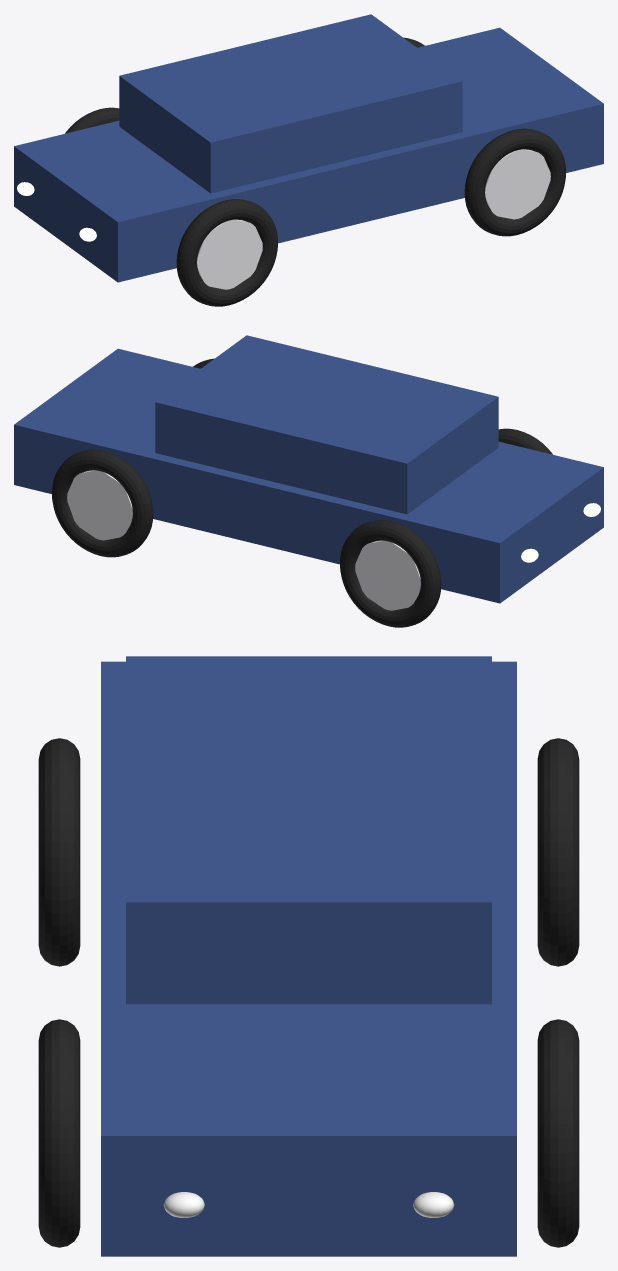
3 renders of one model, top to bottom at view 1: azimuth 30°, elevation 25°; view 2: azimuth 150°, elevation 25°; view 3: azimuth 270°, elevation 25°, orthographic. The views are drawn at different scales.
Parts seen in each view (by area): view 1: SportsCar; view 2: SportsCar; view 3: SportsCar.
Boxes of the visible parts, <box> form: SportsCar: <box>14,14,603,306</box>; SportsCar: <box>14,335,603,627</box>; SportsCar: <box>38,656,579,1256</box>.
Size of the model in its own units: 5.76 by 1.59 by 2.6.
